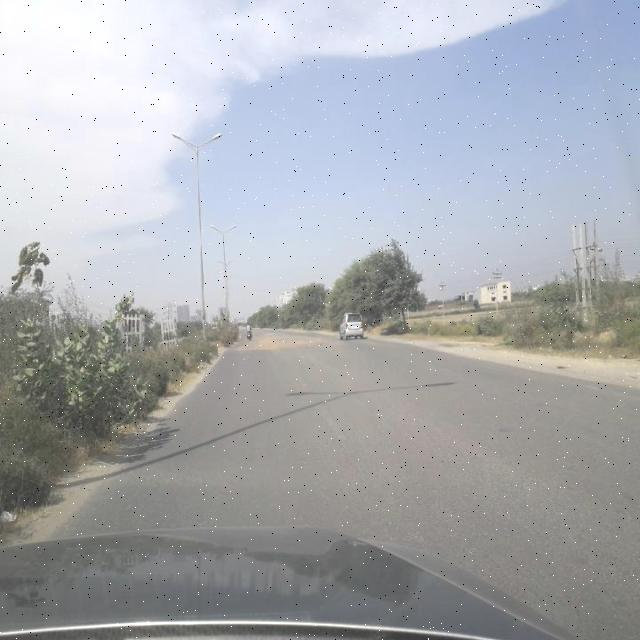D44: (294, 372, 361, 462)
